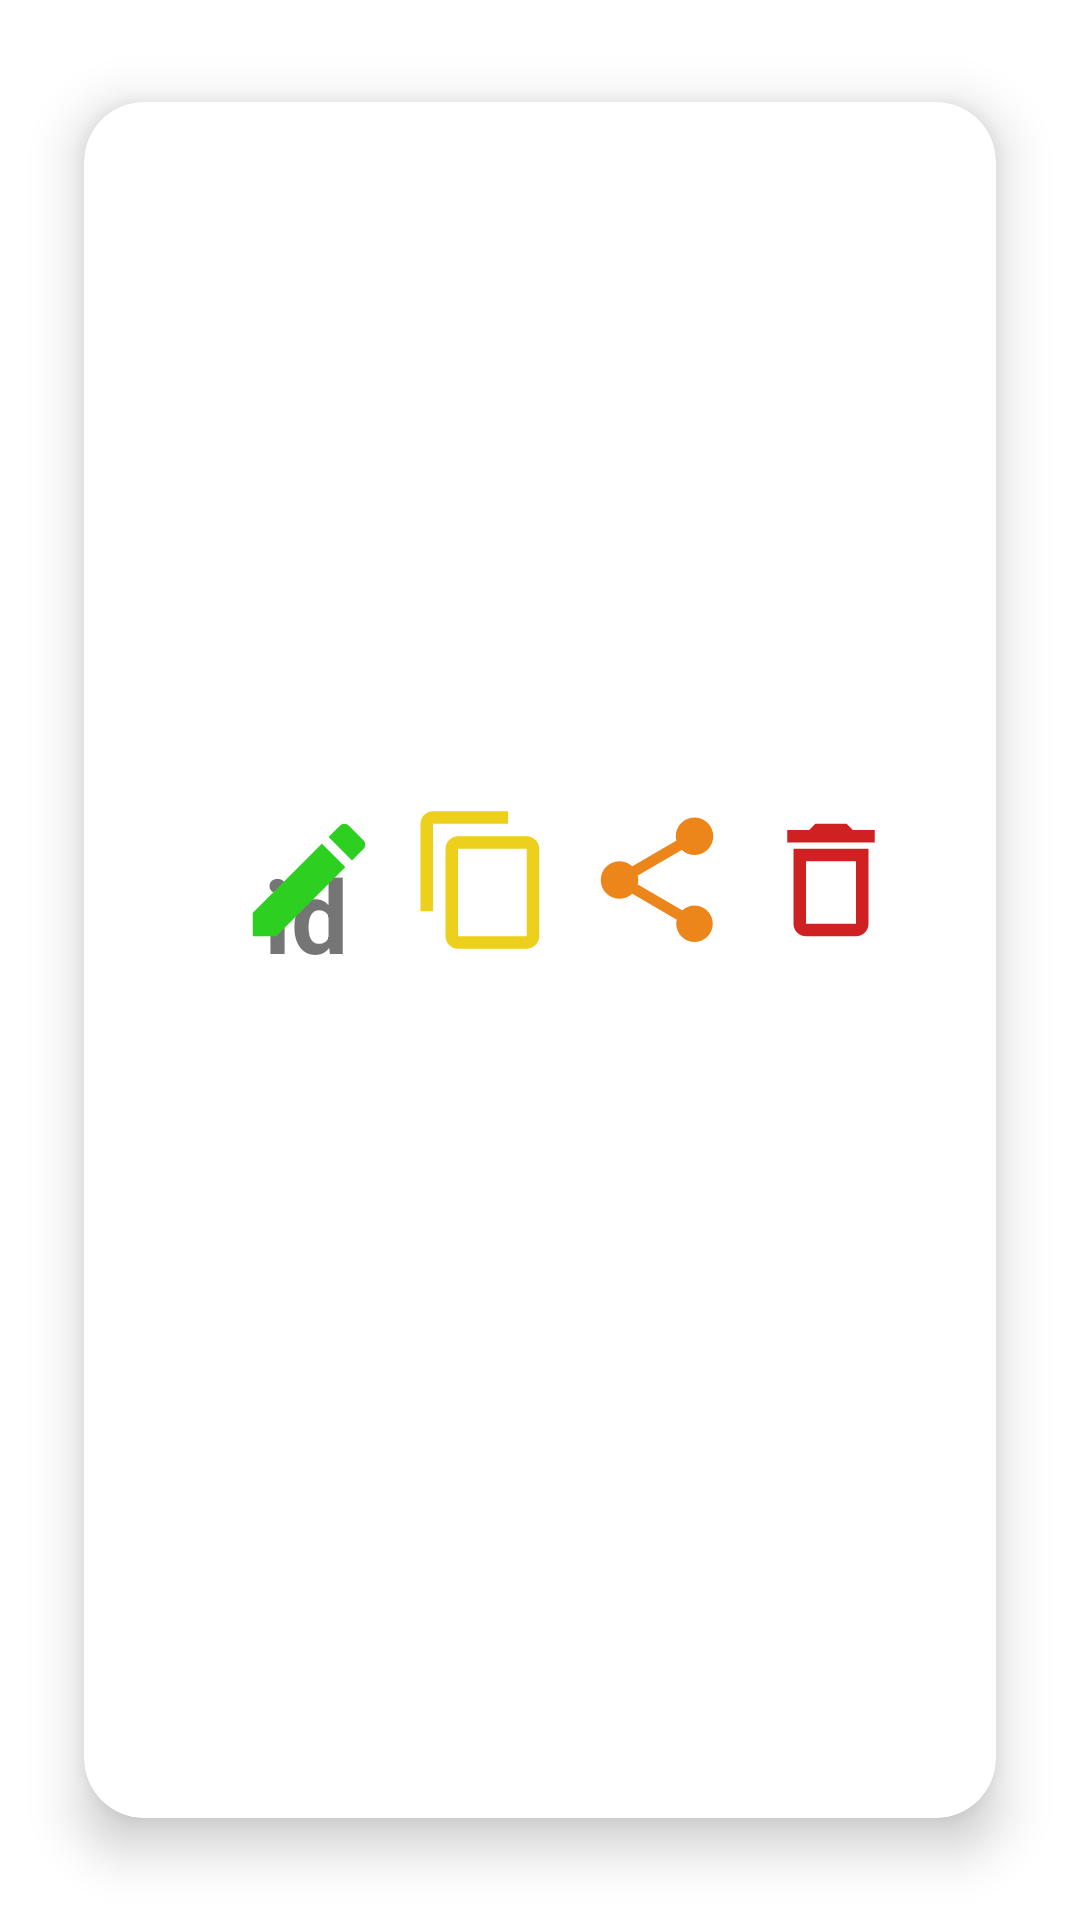

Where to tap for icons on this 1080*1920 app screen, as (x=x, y=y):
delete: (x=831, y=880)
share: (x=657, y=879)
write: (x=309, y=889)
